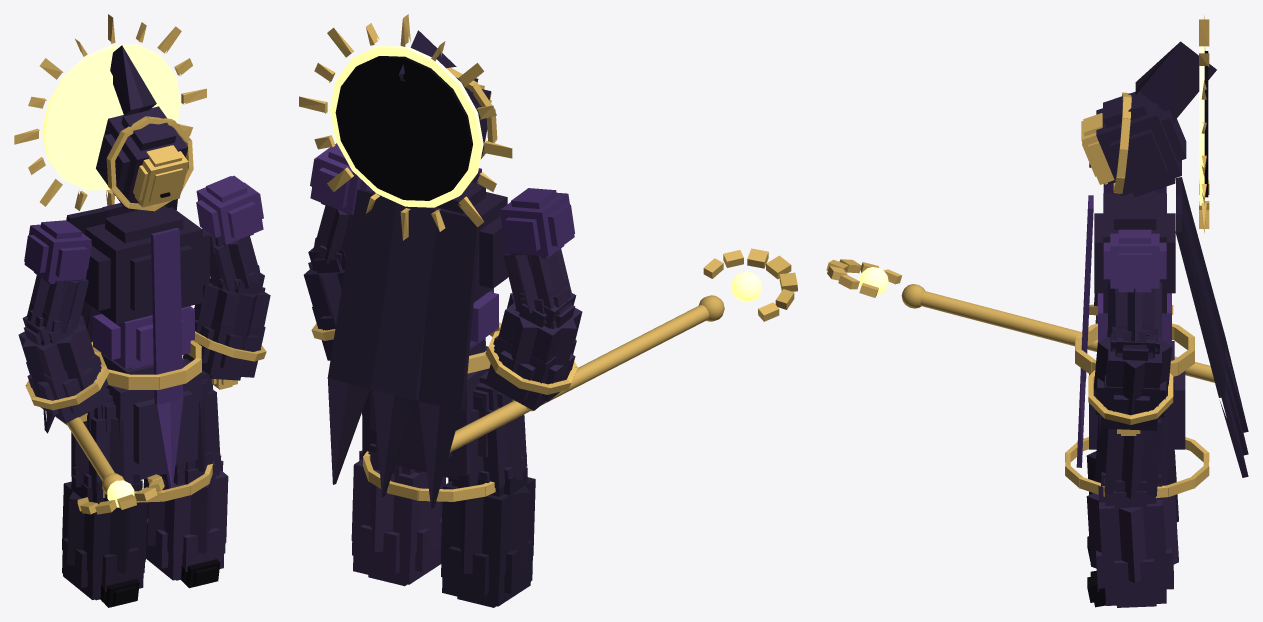
The picture shows the model from 3 angles, left to right: view 1: azimuth 30°, elevation 25°; view 2: azimuth 150°, elevation 25°; view 3: azimuth 270°, elevation 25°; orthographic projection. The views are drawn at different scales.
Visible parts, largest first — view 1: VoidHerald; view 2: VoidHerald; view 3: VoidHerald.
Part boxes in pixels (box(x1,y1,x2,y2)): VoidHerald: box(14, 14, 270, 607); VoidHerald: box(299, 14, 797, 607); VoidHerald: box(826, 15, 1248, 607).
Size of the model in its own units: 0.9885 by 1.65 by 1.13.
